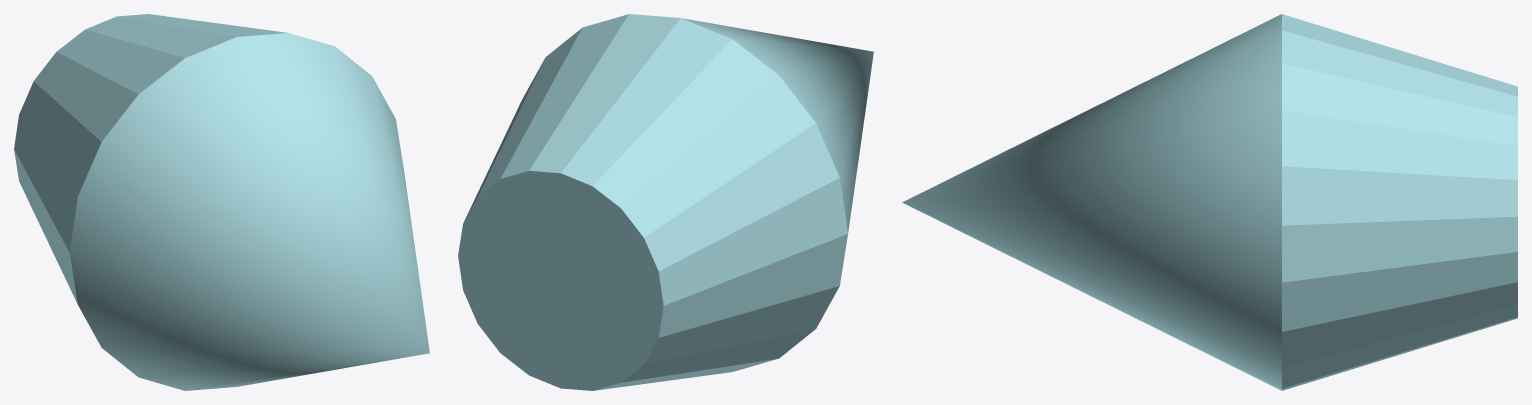
Rendered from FirePS.fbx.
The picture shows the model from 3 angles, left to right: view 1: azimuth 30°, elevation 25°; view 2: azimuth 150°, elevation 25°; view 3: azimuth 270°, elevation 25°; orthographic projection.
Visible parts, largest first — view 1: pCone1; view 2: pCone1; view 3: pCone1.
Part boxes in pixels (x1,y1,x2,y2): pCone1: [14, 14, 429, 390]; pCone1: [458, 14, 873, 390]; pCone1: [902, 14, 1517, 390].
Size of the model in its own units: 2 by 2 by 3.24.
